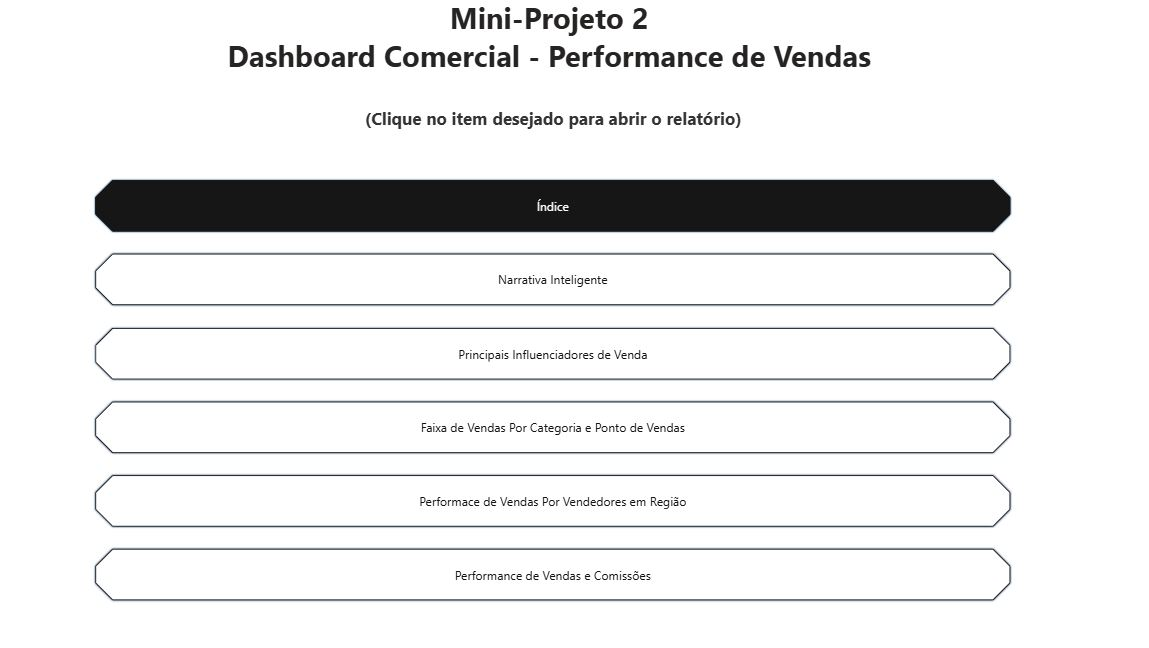

Layout of this report page (visuals, bound fields, positions):
{"tool":"powerbi","page":{"name":"Índice","canvas":[1280,720],"ordinal":0},"visuals":[{"type":"pageNavigator","box":[111.1,203.1,1010,467.9],"z":0},{"type":"textbox","box":[111.1,0,1010,167.4],"z":1000}]}

Visuals, with their boxes in screenshot pixels (x1, y1, x2, y2), scaled from the page's 1280x720 canvas onto the 1149x648 screenshot:
pageNavigator: [100, 183, 1006, 604]
textbox: [100, 0, 1006, 151]
